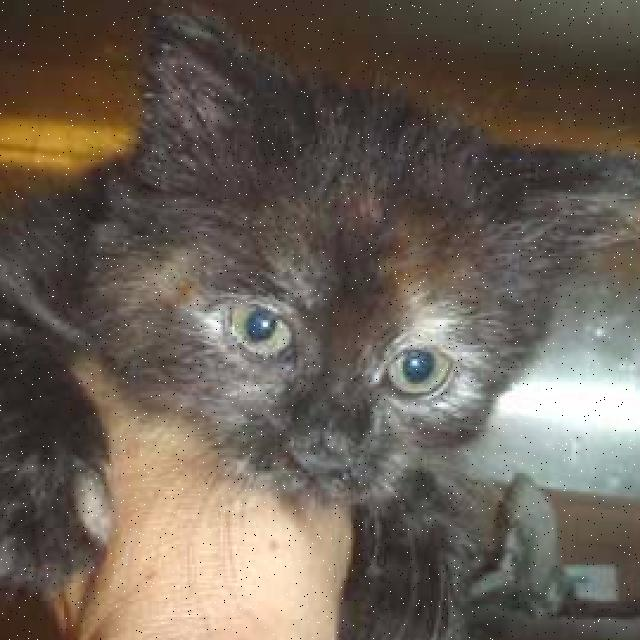Cat: (76, 0, 633, 542)
